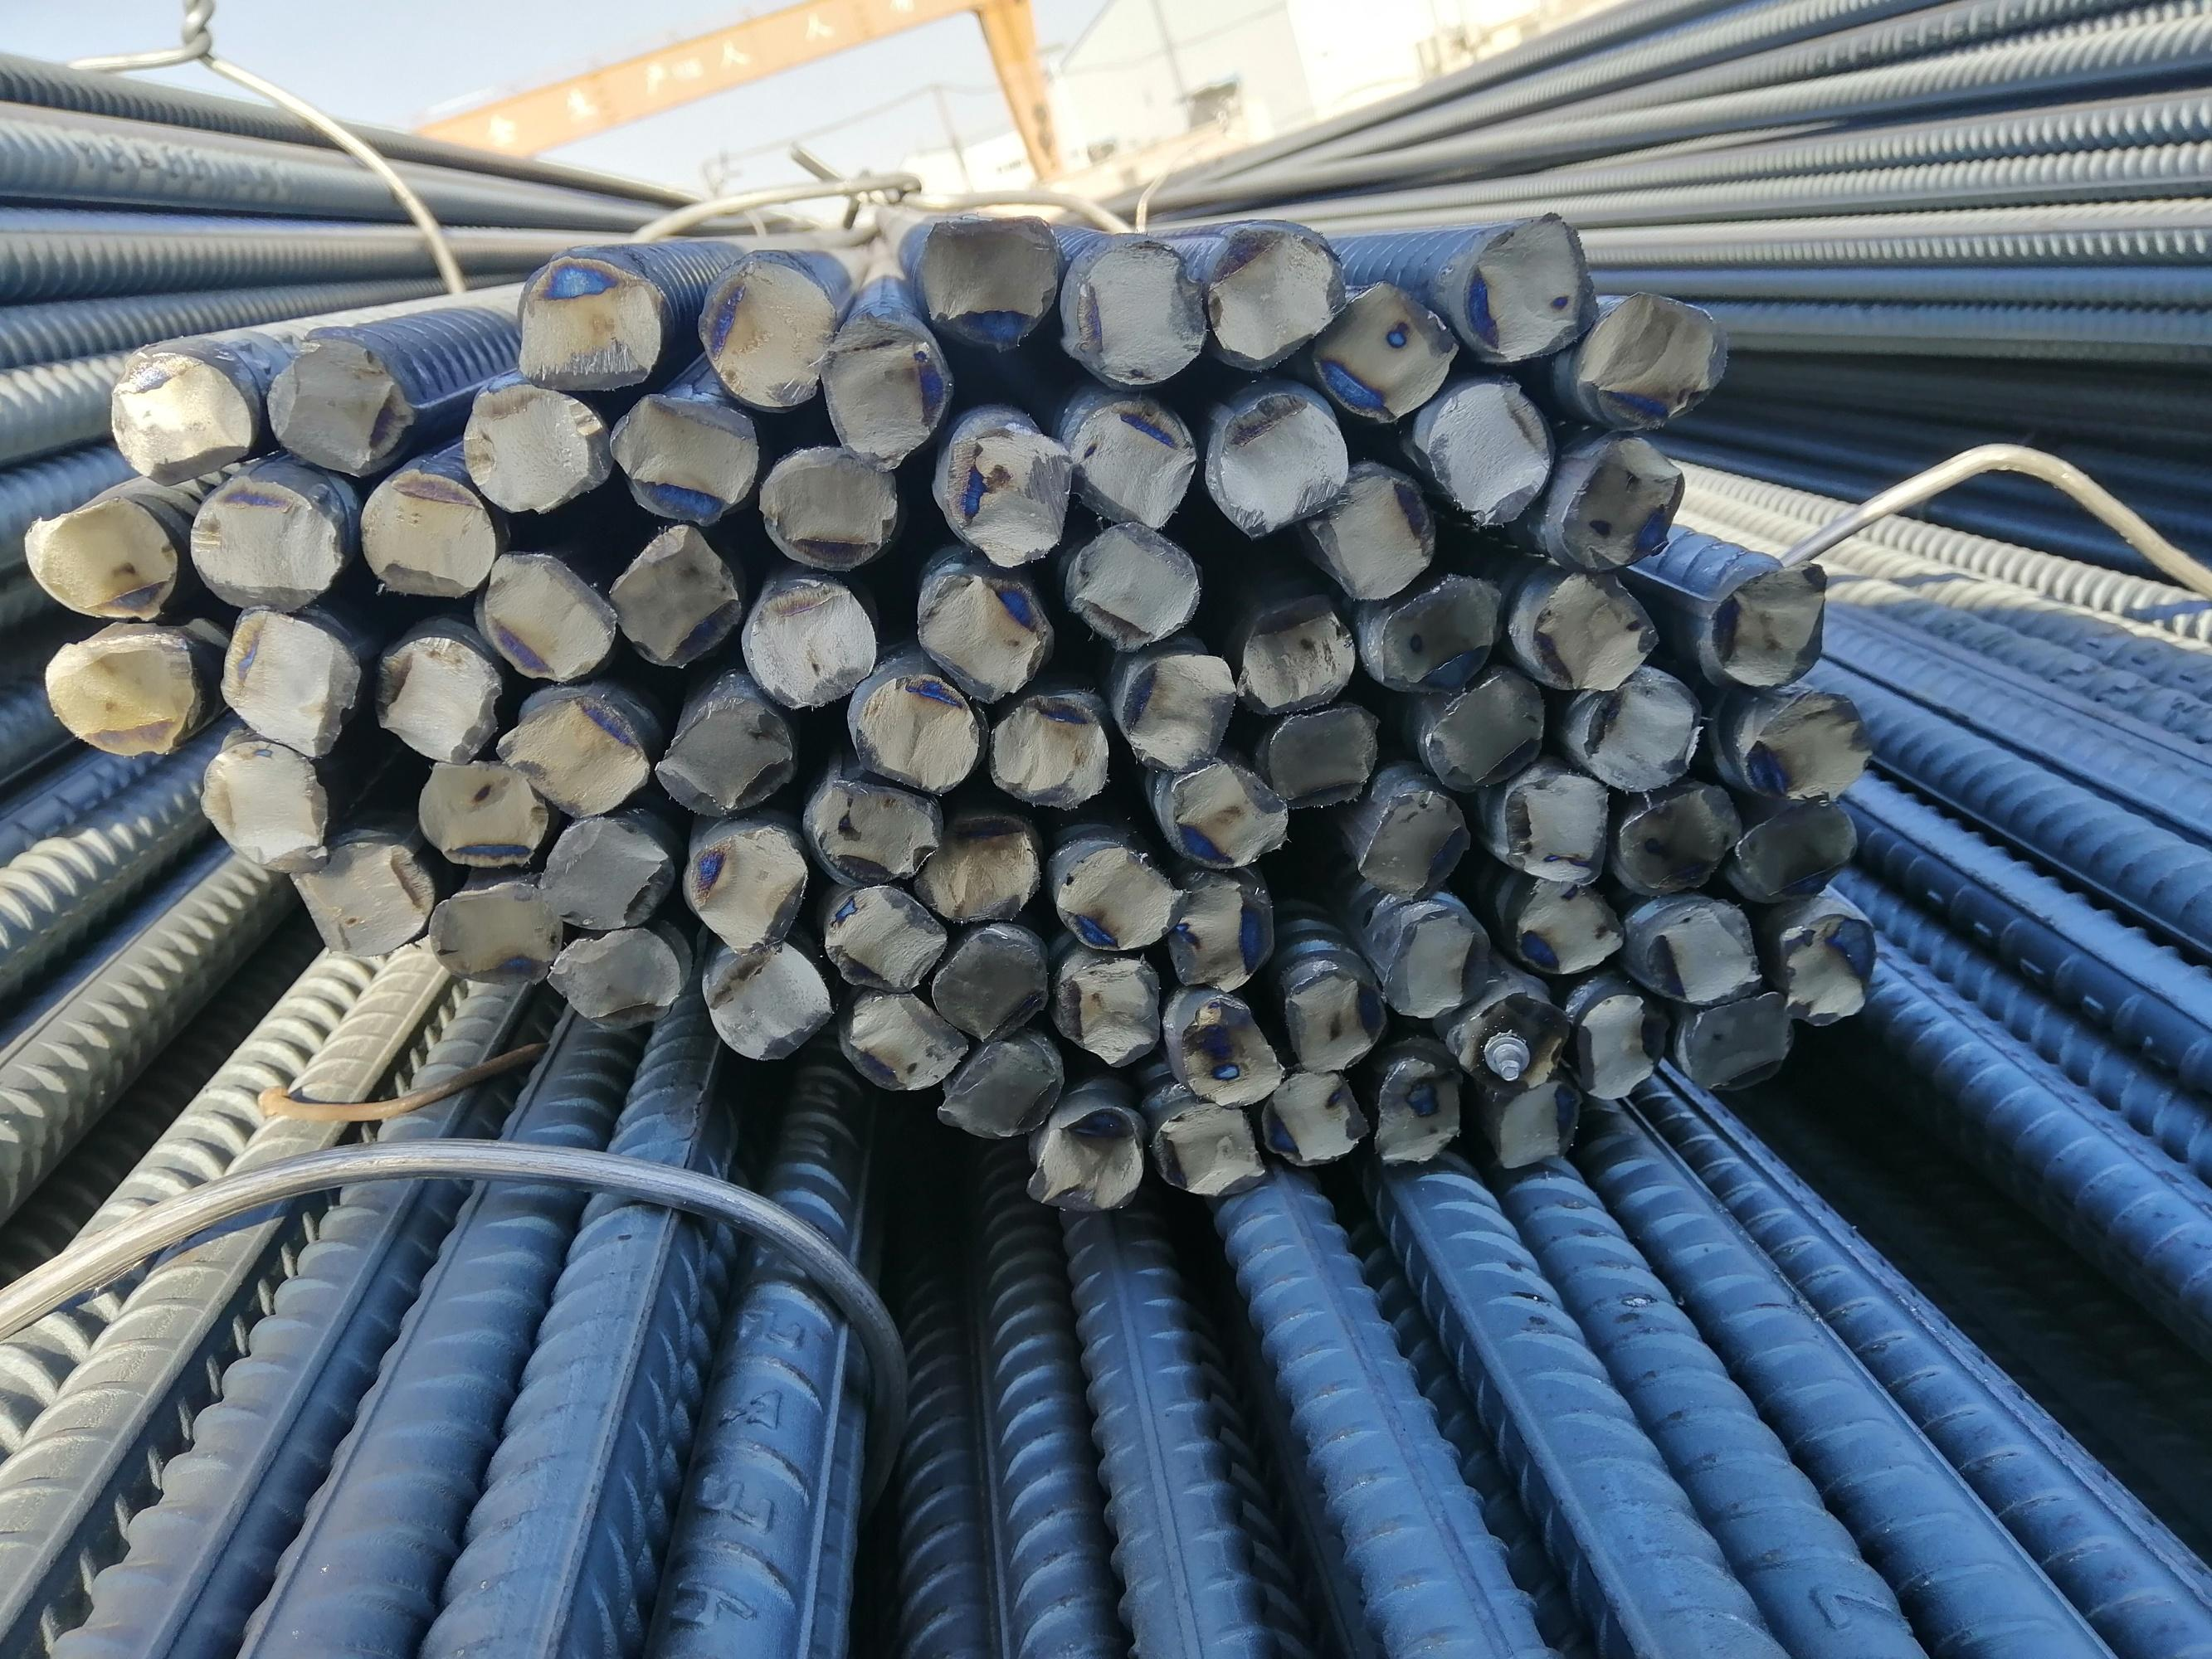bar: (187, 477, 350, 622), (450, 376, 617, 518), (98, 343, 260, 488), (1457, 209, 1602, 371), (260, 326, 408, 483), (614, 383, 770, 528), (1579, 281, 1727, 432), (40, 624, 197, 762), (1201, 223, 1347, 369), (1069, 235, 1210, 387), (814, 321, 952, 476), (913, 214, 1065, 354), (1316, 272, 1455, 423), (1213, 387, 1356, 533), (514, 253, 661, 394), (218, 601, 349, 758), (1429, 378, 1557, 537), (699, 256, 824, 415), (495, 692, 650, 819), (943, 418, 1070, 570), (21, 498, 176, 622), (1555, 432, 1687, 577), (481, 547, 621, 683), (356, 471, 500, 601), (610, 523, 737, 671), (1063, 394, 1199, 532), (1065, 512, 1199, 652), (202, 737, 335, 873), (748, 568, 879, 706), (758, 444, 899, 570), (706, 934, 840, 1065), (1419, 664, 1550, 798), (919, 908, 1048, 1044), (922, 561, 1041, 708), (375, 631, 500, 769), (415, 749, 553, 875), (1706, 558, 1834, 692), (931, 1028, 1069, 1150), (295, 840, 436, 958), (654, 699, 797, 816), (1318, 471, 1440, 606), (535, 816, 675, 932), (683, 824, 807, 955), (542, 925, 689, 1035), (811, 769, 940, 892), (1372, 573, 1503, 695), (1618, 775, 1745, 899), (849, 674, 981, 793), (1743, 688, 1872, 807), (1048, 934, 1163, 1066), (1532, 573, 1659, 692), (1021, 1093, 1142, 1215), (1119, 652, 1239, 772), (987, 690, 1109, 809), (425, 880, 561, 986), (837, 981, 967, 1091), (1440, 985, 1571, 1094), (1170, 873, 1281, 1000), (1496, 769, 1612, 889), (1145, 1093, 1274, 1199), (1733, 800, 1862, 906), (823, 880, 943, 993), (1260, 701, 1381, 812), (1170, 756, 1292, 866), (1062, 840, 1175, 957), (926, 812, 1035, 932), (1178, 992, 1288, 1112), (1375, 910, 1496, 1019), (1243, 596, 1358, 709), (1584, 671, 1696, 786), (1279, 958, 1386, 1075), (1773, 913, 1879, 1030), (1644, 899, 1755, 1009), (1262, 1054, 1370, 1168), (1510, 875, 1626, 978), (1361, 789, 1468, 901), (1368, 1054, 1469, 1169), (1574, 981, 1665, 1103), (1680, 995, 1797, 1089), (1487, 1079, 1581, 1164)
